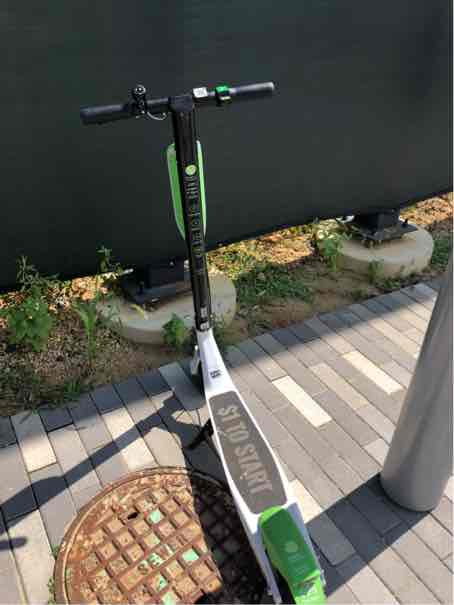scooter: (68, 71, 346, 604)
